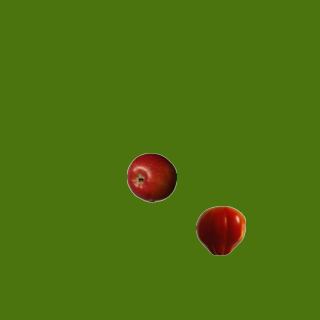Apple Braeburn: (126, 152, 176, 202)
Tomato 1: (195, 205, 245, 255)
